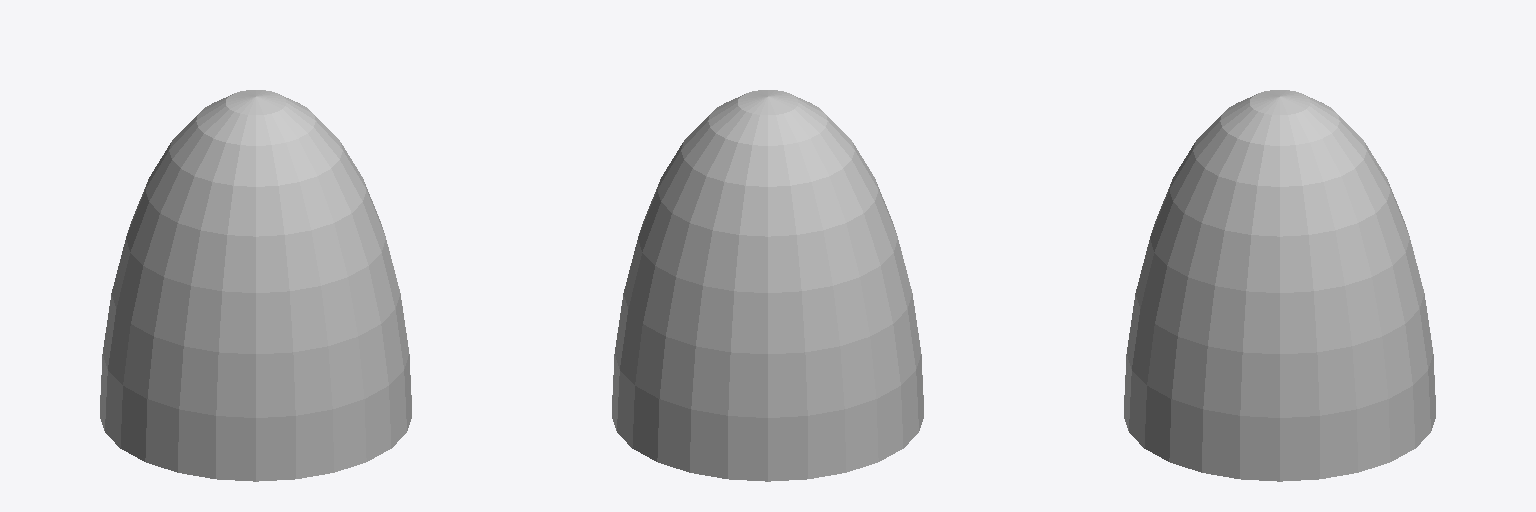
File: connector_empty.obj
3 renders of one model, left to right at view 1: azimuth 30°, elevation 25°; view 2: azimuth 150°, elevation 25°; view 3: azimuth 270°, elevation 25°, orthographic.
Parts seen in each view (by area): view 1: Connector_empty; view 2: Connector_empty; view 3: Connector_empty.
Boxes of the visible parts, x1=… form: Connector_empty: x1=100, y1=90, x2=411, y2=481; Connector_empty: x1=612, y1=90, x2=923, y2=481; Connector_empty: x1=1124, y1=90, x2=1435, y2=481.
Bounding box in the file's own units: 2 × 2.25 × 2.